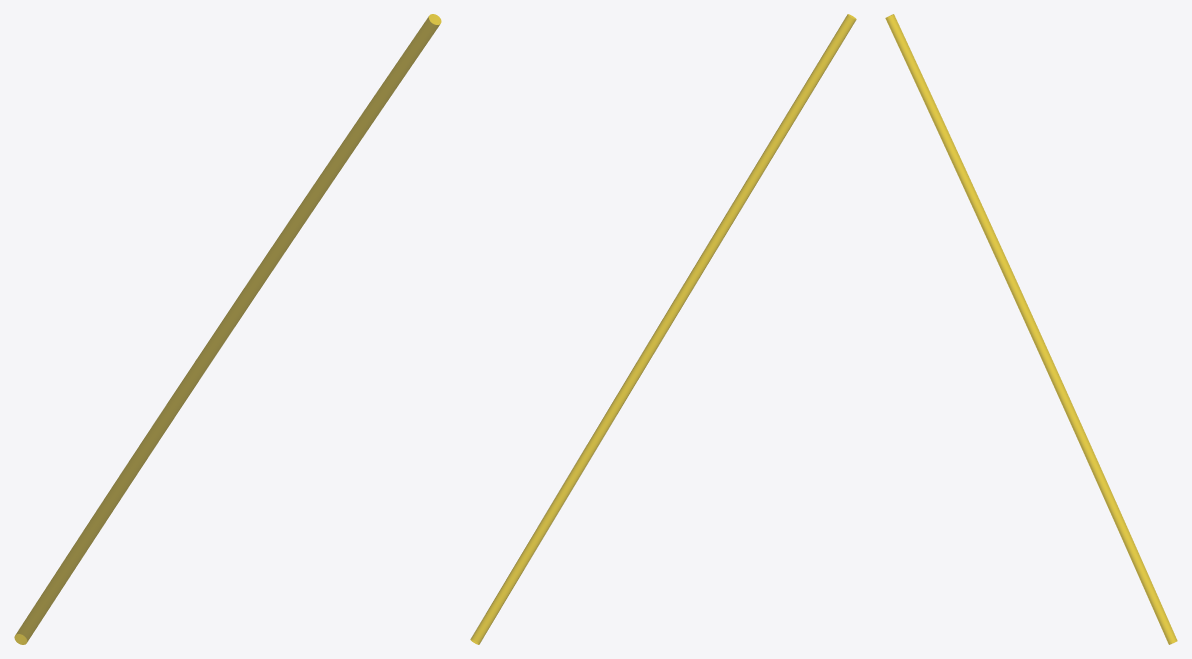
The model's file is Event_75125125_track_21.fbx.
3 renders of one model, left to right at view 1: azimuth 90°, elevation 25°; view 2: azimuth 150°, elevation 25°; view 3: azimuth 270°, elevation 25°, orthographic. The views are drawn at different scales.
Parts seen in each view (by area): view 1: Model; view 2: Model; view 3: Model.
Boxes of the visible parts, box(x1,y1,x2,y2) form: Model: box(14, 14, 441, 644); Model: box(470, 14, 856, 644); Model: box(885, 14, 1177, 644).
Size of the model in its own units: 1.03 by 2.43 by 1.21.
